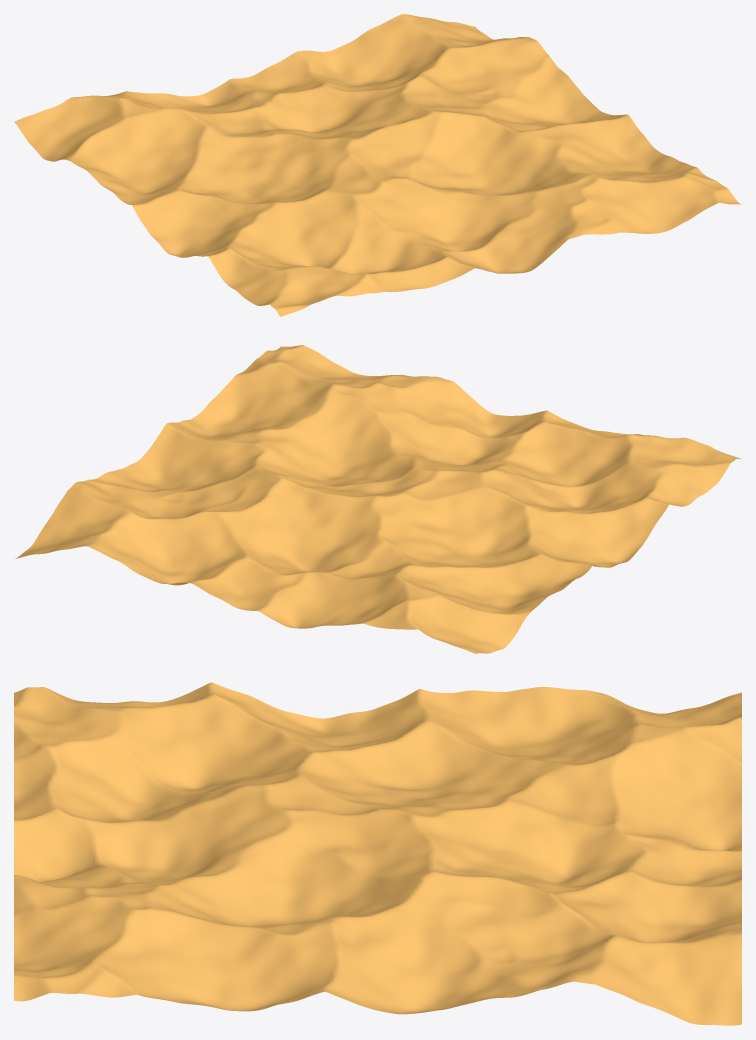
Rendered from SandDunes_00.fbx.
3 views of the same model, one above another, from view 1: azimuth 30°, elevation 25°; view 2: azimuth 150°, elevation 25°; view 3: azimuth 270°, elevation 25° (orthographic). The views are drawn at different scales.
Parts seen in each view (by area): view 1: Plane.001; view 2: Plane.001; view 3: Plane.001.
Part boxes in pixels (bbox=[...]): Plane.001: bbox=[14, 14, 741, 316]; Plane.001: bbox=[15, 345, 740, 653]; Plane.001: bbox=[14, 682, 741, 1025].
Bounding box in the file's own units: 100 × 8.71 × 100.
